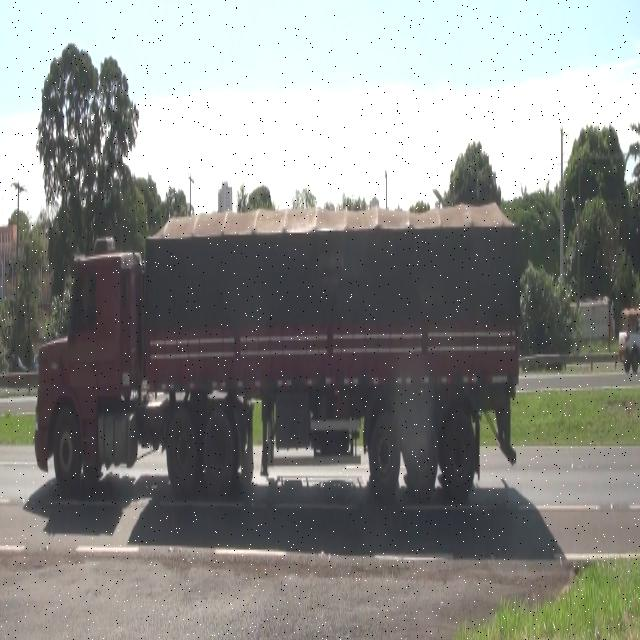-axle: (200, 403, 235, 498), (442, 412, 477, 506), (404, 410, 439, 503), (368, 404, 401, 500), (50, 408, 82, 498), (166, 412, 197, 498)
